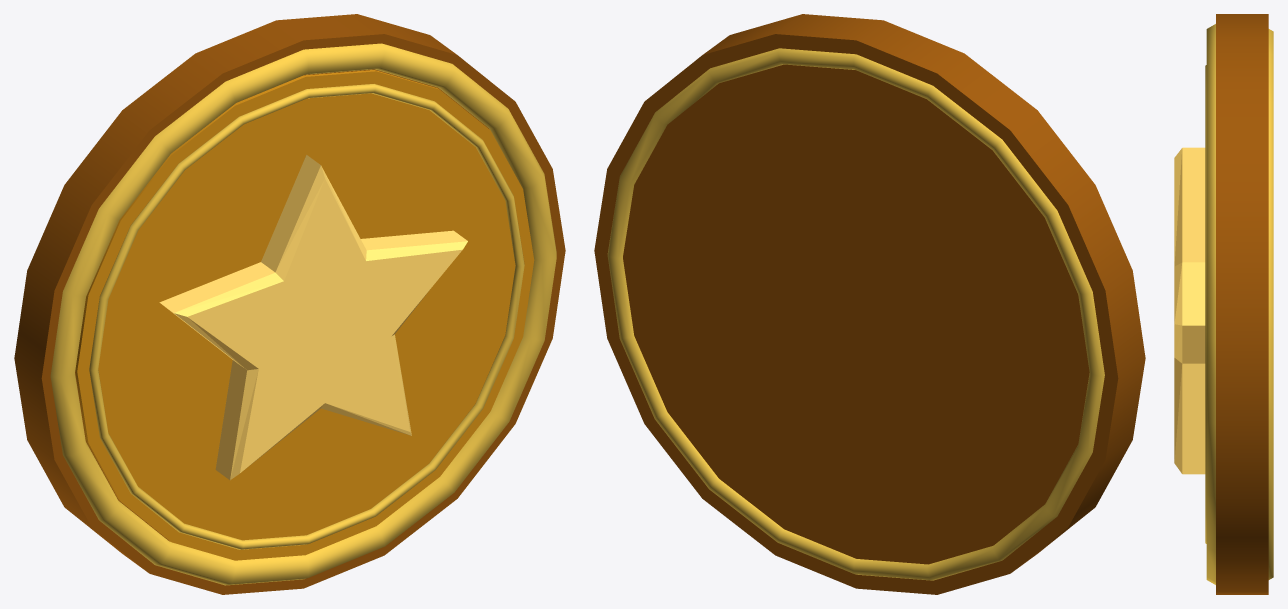
File: coin-low.glb
The picture shows the model from 3 angles, left to right: view 1: azimuth 30°, elevation 25°; view 2: azimuth 150°, elevation 25°; view 3: azimuth 270°, elevation 25°; orthographic projection. The views are drawn at different scales.
Visible parts, largest first — view 1: Inset circular gold face, Raised five-point star, Front raised outer rim, Solid coin blank, Front inner engraving ring; view 2: Solid coin blank, Back edge bead; view 3: Solid coin blank, Raised five-point star, Front raised outer rim, Back edge bead, Front inner engraving ring.
Part boxes in pixels (left/top/right/bottom): Inset circular gold face: left=75, top=70, right=534, bottom=560; Raised five-point star: left=159, top=155, right=467, bottom=480; Front raised outer rim: left=50, top=43, right=556, bottom=585; Solid coin blank: left=14, top=14, right=565, bottom=594; Front inner engraving ring: left=89, top=84, right=524, bottom=549; Solid coin blank: left=594, top=14, right=1145, bottom=594; Back edge bead: left=607, top=48, right=1104, bottom=580; Solid coin blank: left=1216, top=14, right=1268, bottom=594; Raised five-point star: left=1174, top=147, right=1205, bottom=474; Front raised outer rim: left=1206, top=24, right=1215, bottom=584; Back edge bead: left=1268, top=29, right=1273, bottom=579; Front inner engraving ring: left=1205, top=65, right=1206, bottom=543.
Bounding box in the file's own units: 1.88 × 1.88 × 0.318.
